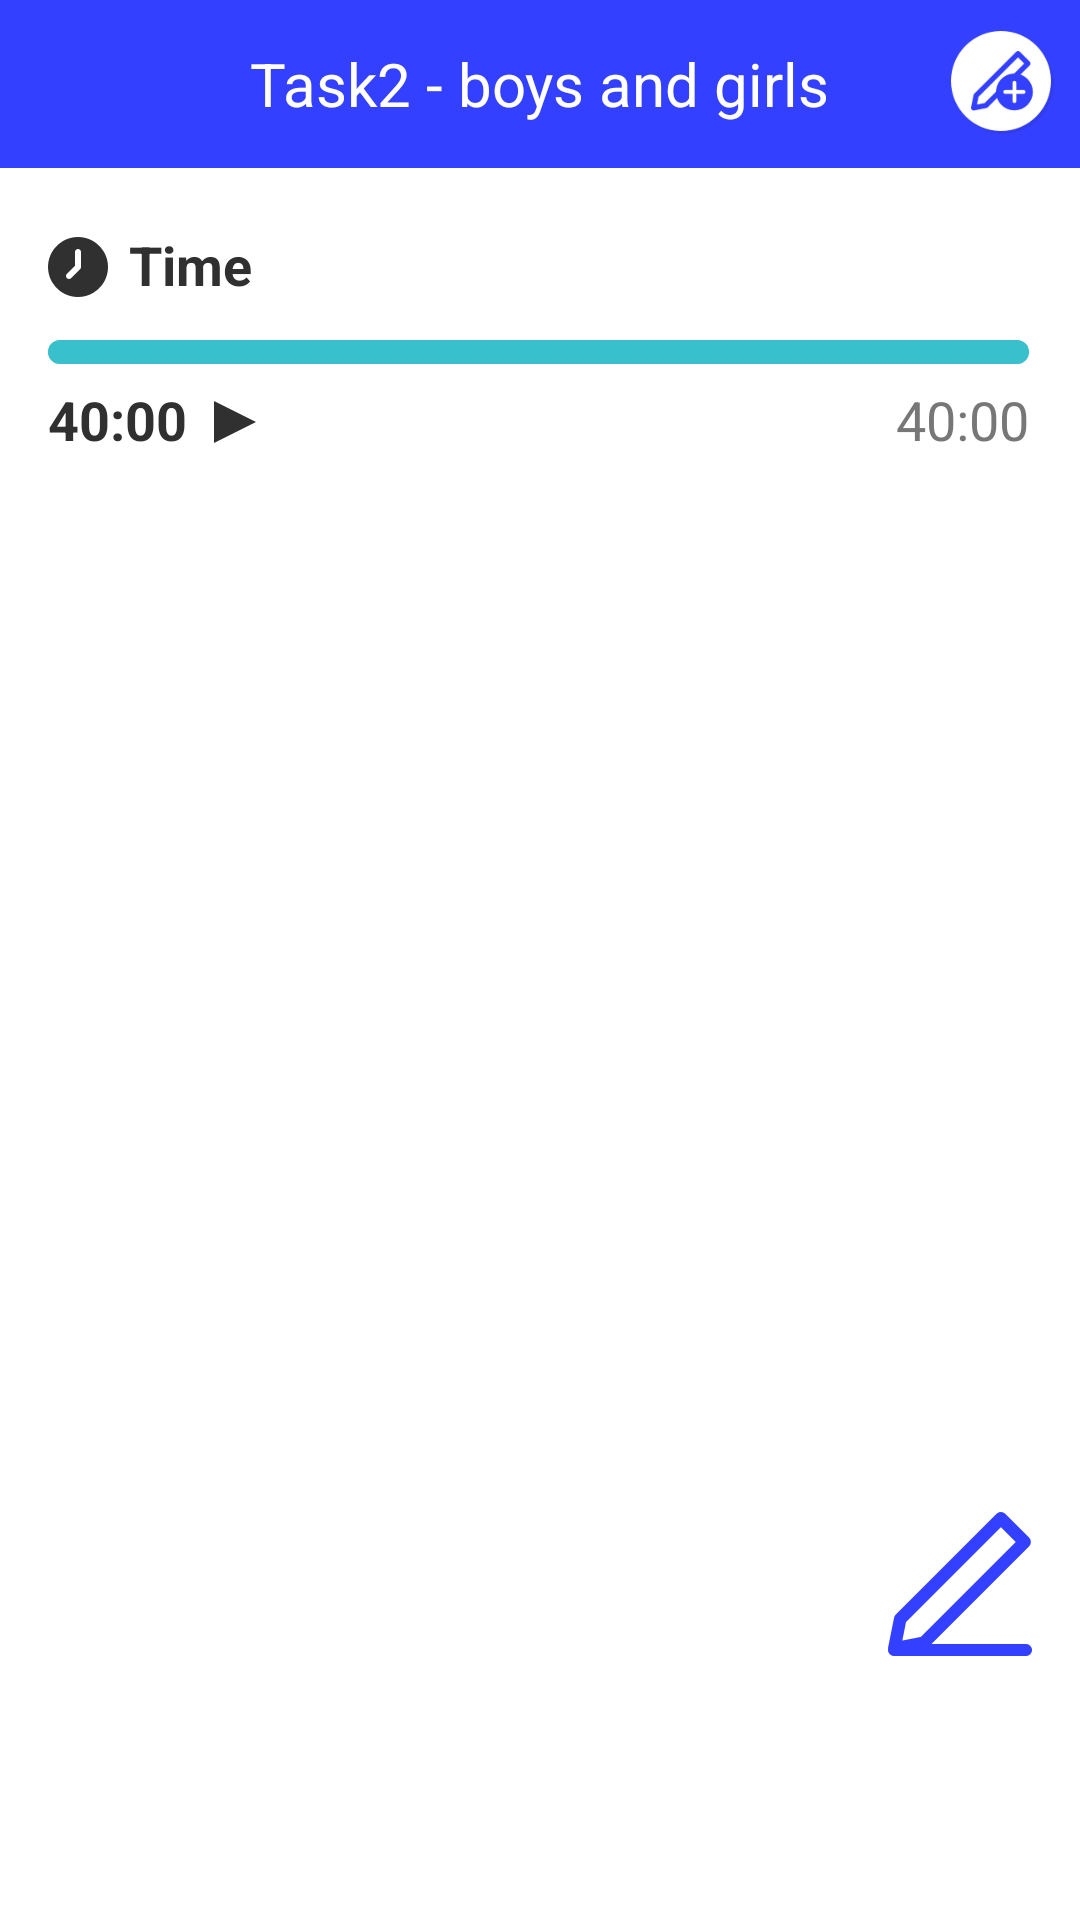

Icon click points for this 1080×1920 phone screenshot, format (x=x, y=y):
pen connect: (x=1001, y=81)
play: (x=235, y=422)
write: (x=960, y=1584)
